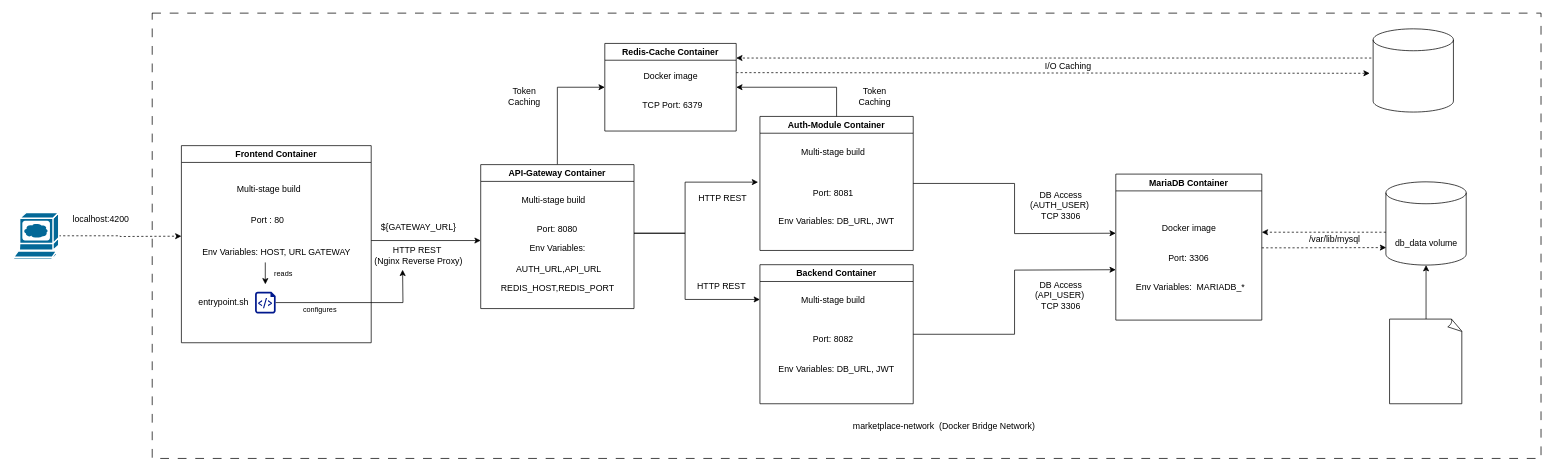
This 1553x471 diagram has some shape labels left out. The shapes that lost their labels are listed below. From the top down, each one's centre as x and y in pixels, then its label:
At [1412,70]: "redis_data volume".
At [1426,361]: "marketplace.sql".
